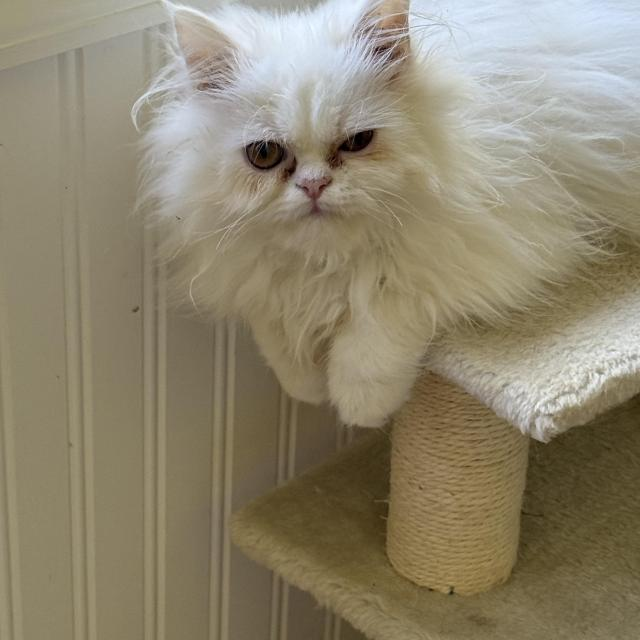persian_cat: (146, 2, 470, 334)
